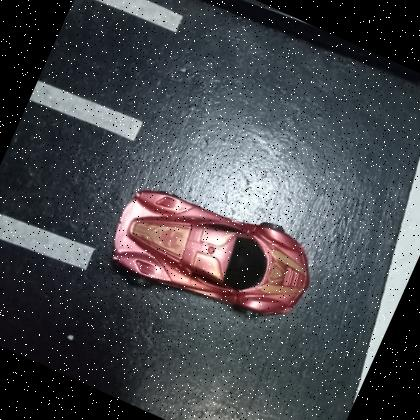Car: (113, 192, 311, 318)
